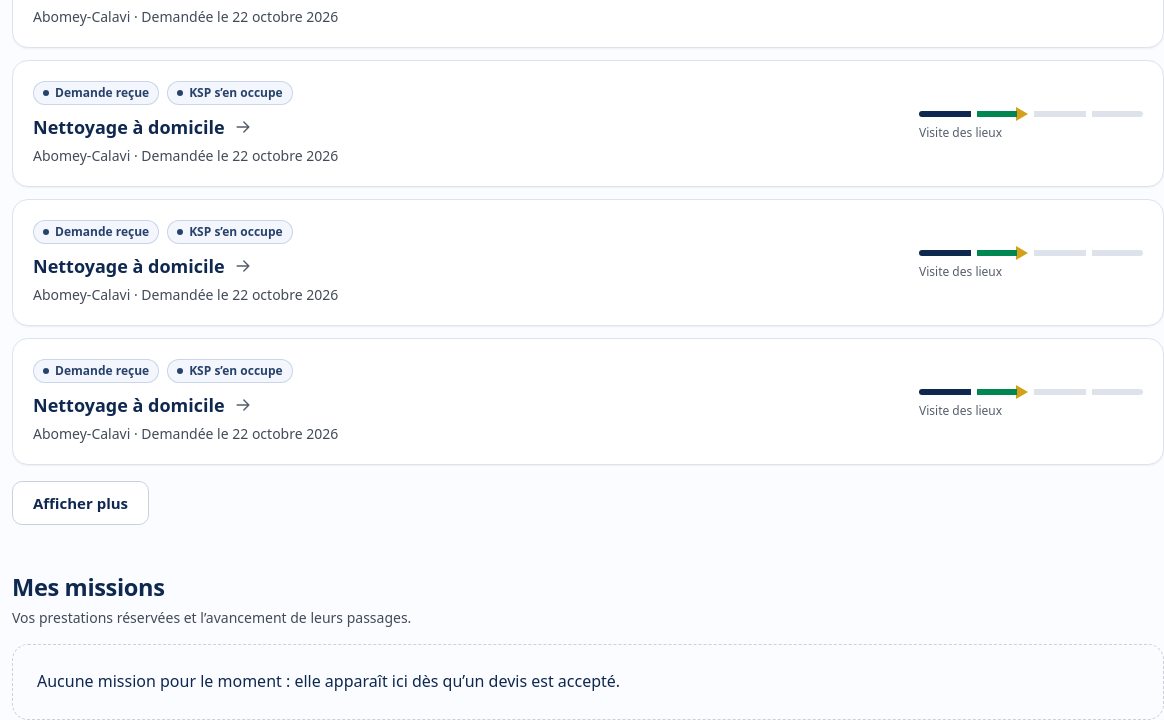
Test: Mes prestations de nettoyage › liste demandes et missions du compte personnel, avec pagination par curseur et états vides
The image size is (1164, 720).
(page scrolled)
Expected: the text "Aucune mission pour le moment" is shown, [37,670,620,692]
Click the button "Afficher plus": (81, 504) [12,482,149,526]
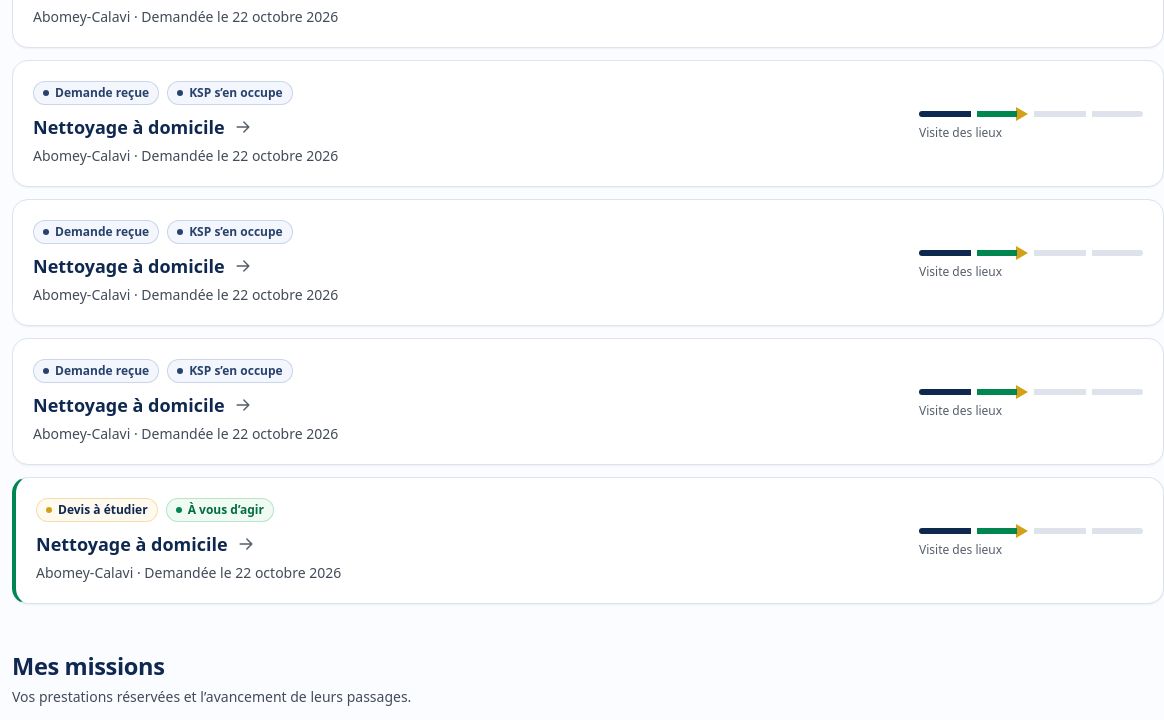
Expected: the text "Devis à étudier" is shown, [36,498,158,522]
Expected: the button "Afficher plus" is gone
